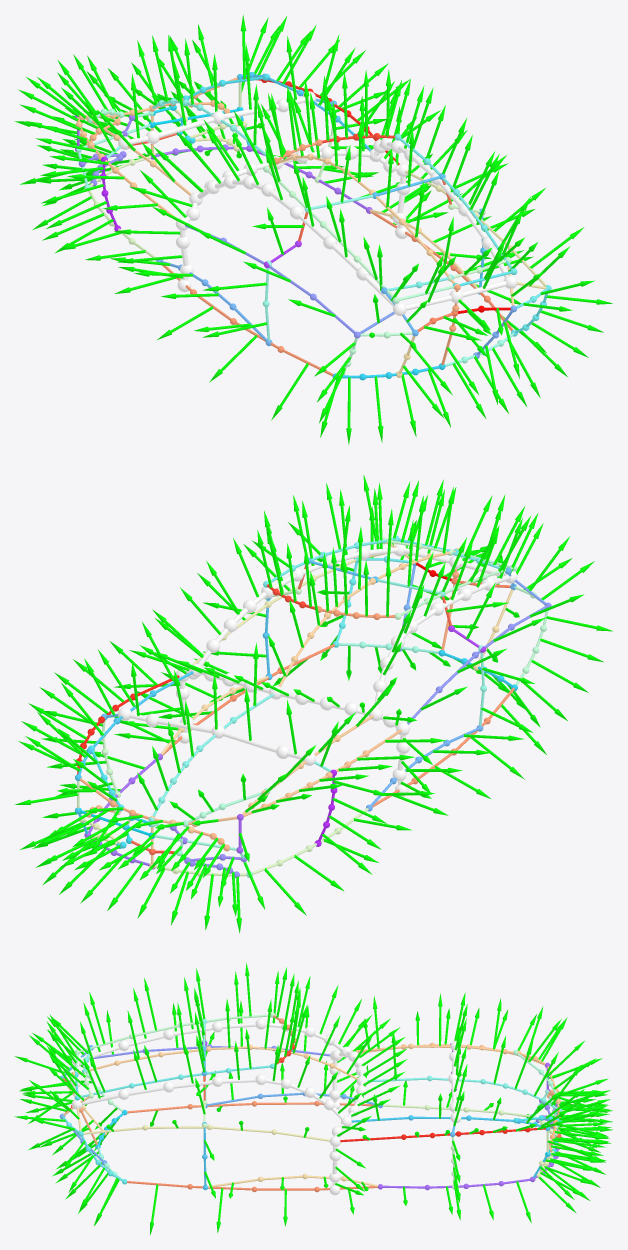
The model's file is ils_car2.gltf.
3 views of the same model, one above another, from view 1: azimuth 30°, elevation 25°; view 2: azimuth 150°, elevation 25°; view 3: azimuth 270°, elevation 25° (orthographic). The views are drawn at different scales.
Bounding box in the file's own units: 0.5792 × 0.396 × 1.08.
